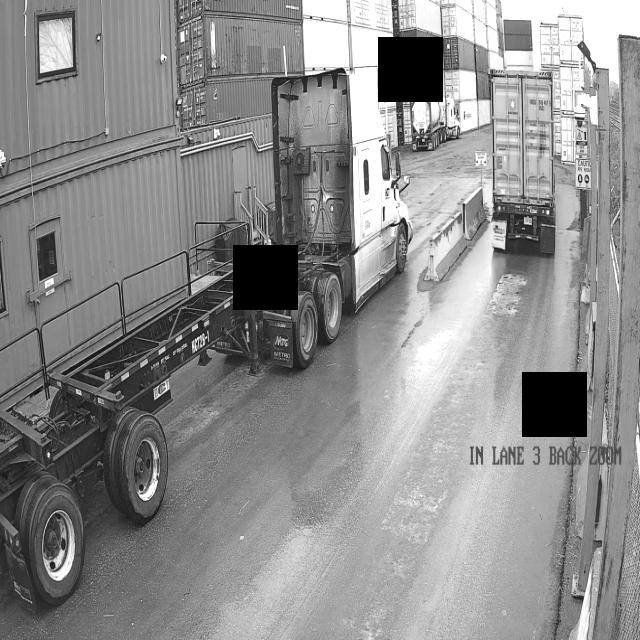truck_with_container: (491, 70, 556, 254)
truck_without_container: (0, 69, 413, 607)
